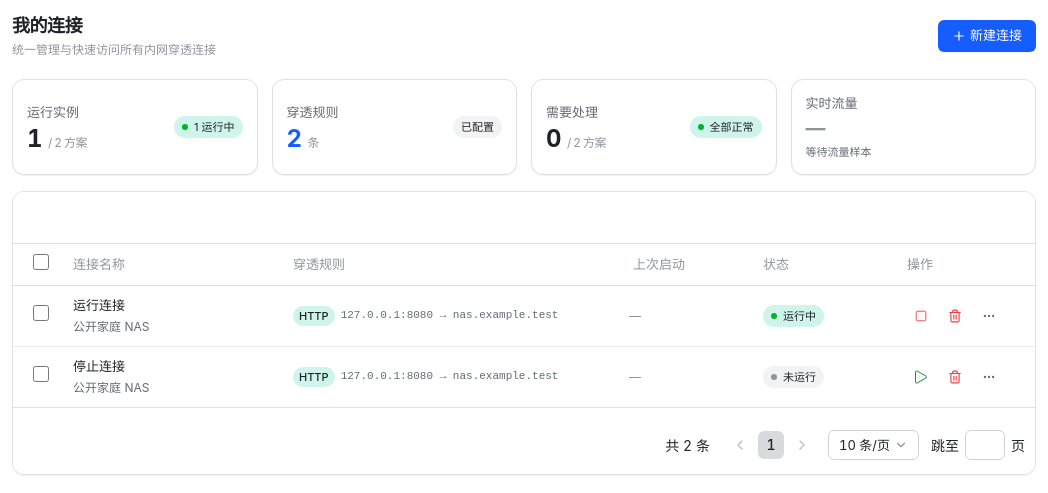
Test case: ProfileList (我的连接表格化呈现) › 任务 5：严格批量工具条 › 混合状态选择时：启动、停止、删除三个批量按钮均被禁用
Click the checkbox named "选择 运行连接" at (41, 313), box [33, 305, 49, 321]
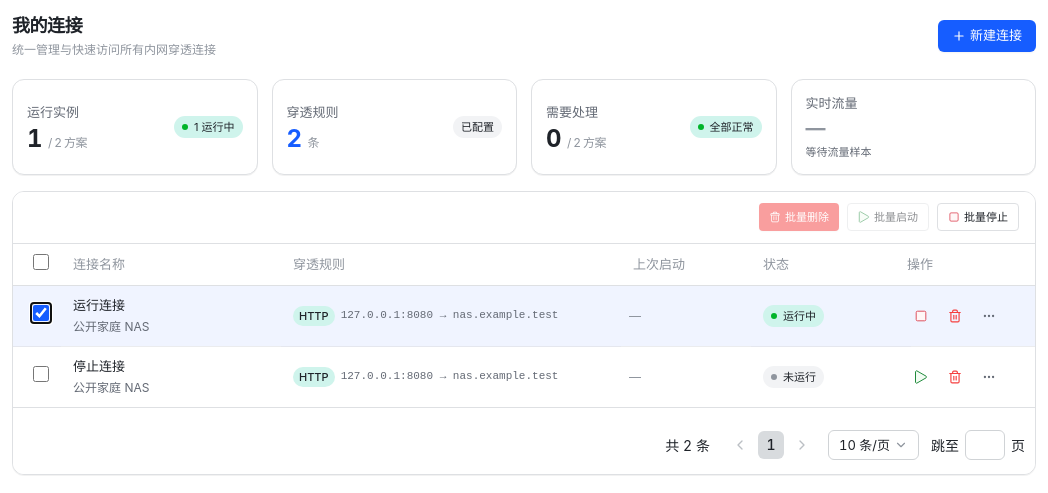
Click the checkbox named "选择 停止连接" at (41, 374), box [33, 366, 49, 382]
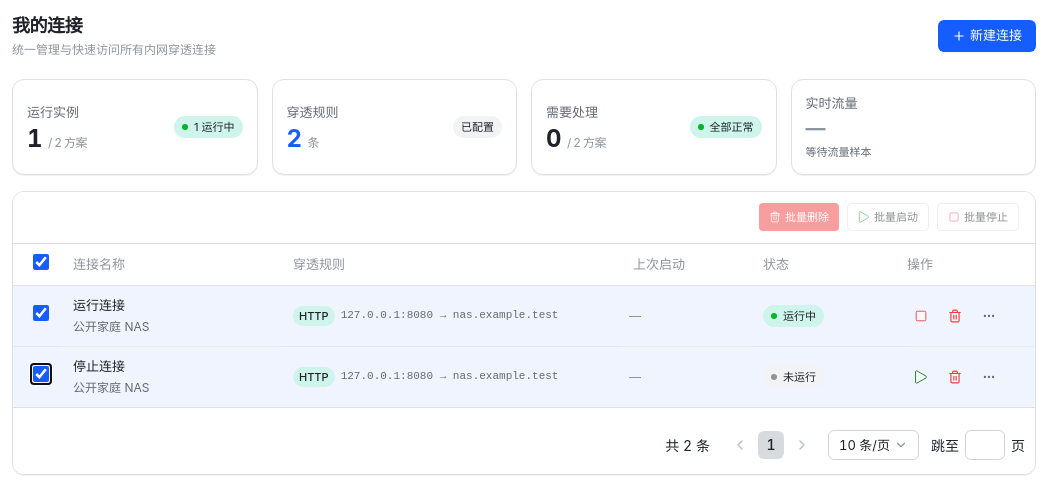
Result: the button "批量启动" is disabled at [847, 203, 929, 231]
Result: the button "批量删除" is disabled at [759, 203, 839, 231]
Result: the button "批量停止" is disabled at [937, 203, 1019, 231]
